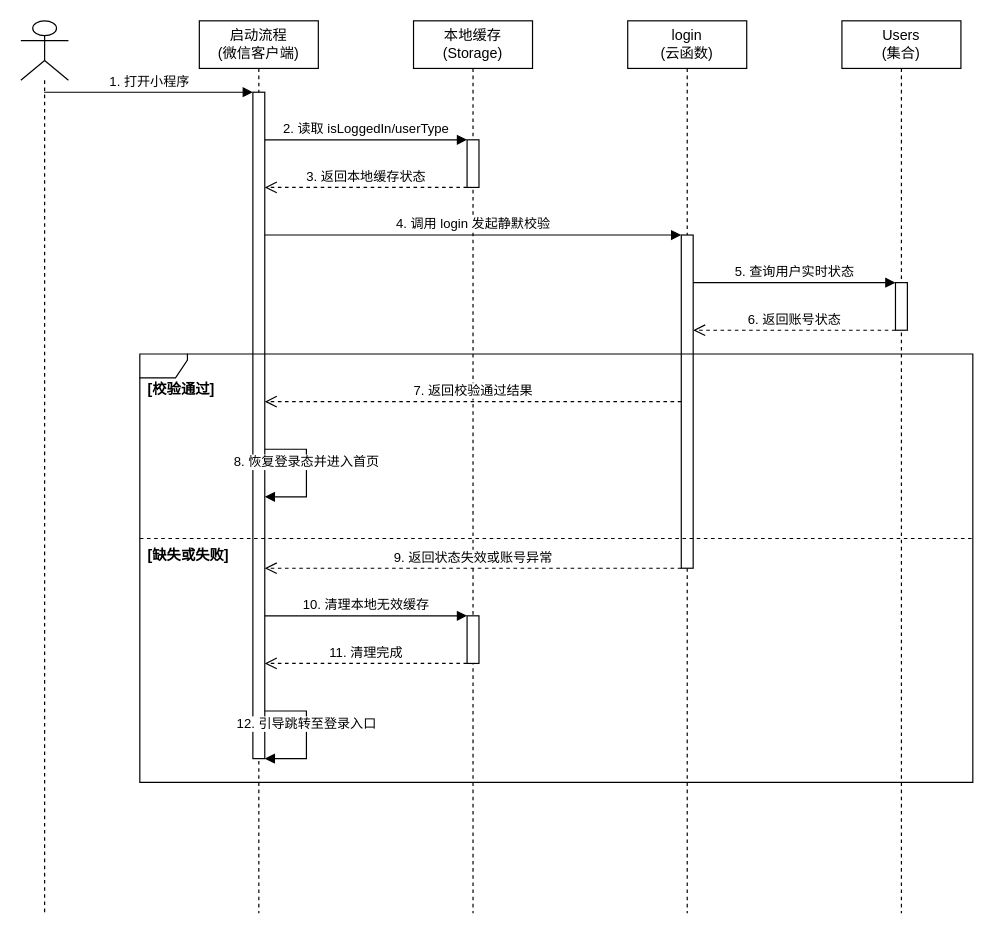
Image size: 994x934. Some labels were removed from this diagram. The shapes that lost their labels are listed below. From the top down, each one's box as (x1, y1, x2, y2) in pixels, then its label:
(20, 20, 68, 913): 用户
(139, 353, 973, 782): alt
